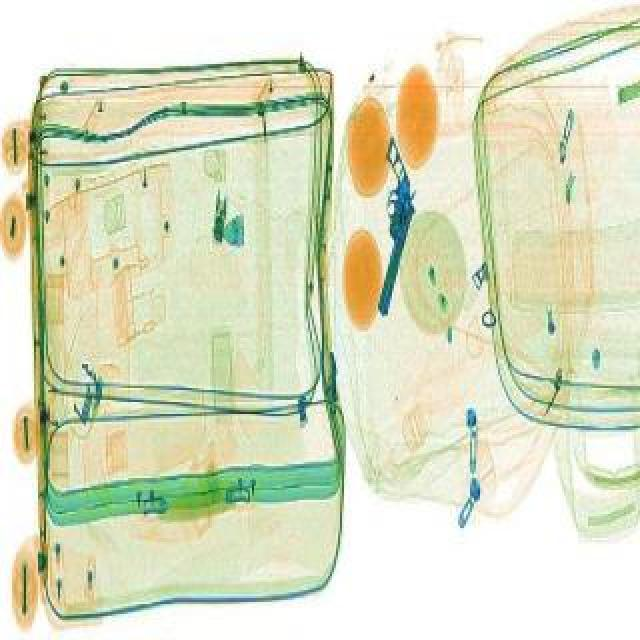gun: (336, 140, 440, 322)
